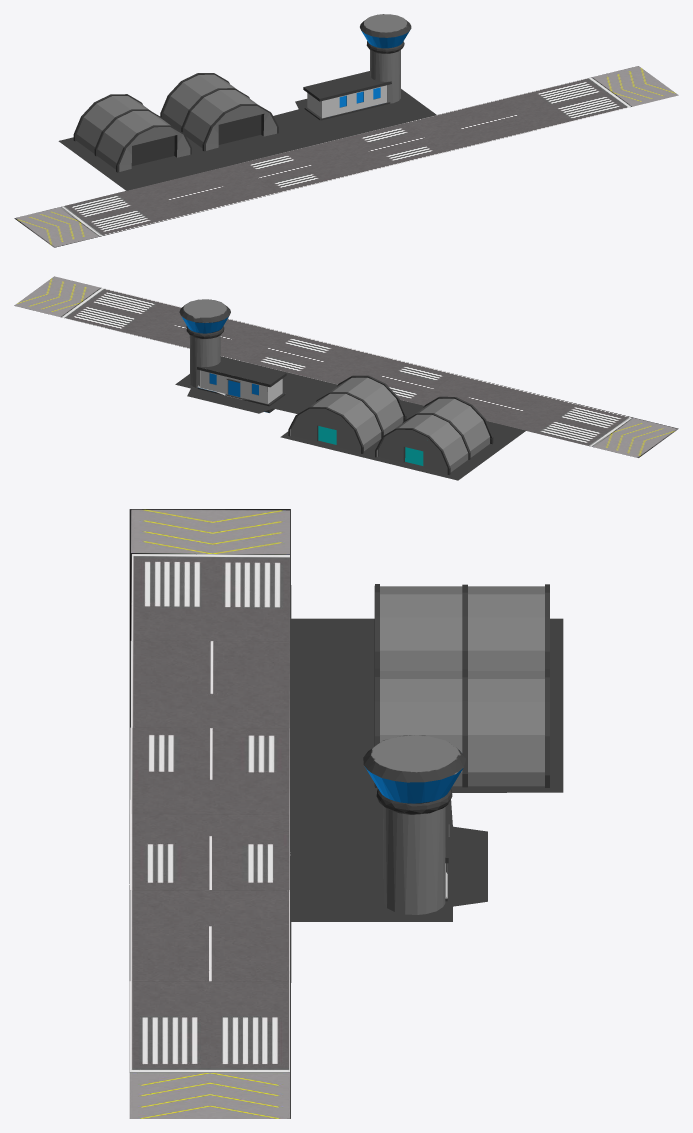
Rendered from Airport.glb.
The picture shows the model from 3 angles, top to bottom: view 1: azimuth 30°, elevation 25°; view 2: azimuth 150°, elevation 25°; view 3: azimuth 270°, elevation 25°; orthographic projection. The views are drawn at different scales.
Parts seen in each view (by area): view 1: Plane, Cylinder.001, Cylinder, Cube.001, Torus; view 2: Plane, Cylinder.001, Cylinder, Cube.001, Torus; view 3: Plane, Cylinder, Cylinder.001, Torus.
Part boxes in pixels (<box>): Plane: <box>14,66,678,247</box>; Cylinder.001: <box>73,94,191,172</box>; Cylinder: <box>160,73,278,151</box>; Cube.001: <box>303,71,391,120</box>; Torus: <box>360,14,411,103</box>; Plane: <box>14,276,678,480</box>; Cylinder.001: <box>375,396,493,475</box>; Cylinder: <box>288,375,406,453</box>; Cube.001: <box>196,357,286,412</box>; Torus: <box>179,299,230,388</box>; Plane: <box>129,509,563,1118</box>; Cylinder: <box>374,668,549,787</box>; Cylinder.001: <box>374,584,549,670</box>; Torus: <box>363,735,465,914</box>.
Bounding box in the file's own units: 423 × 52.33 × 127.
Materials: 5 (5 with a texture image).
